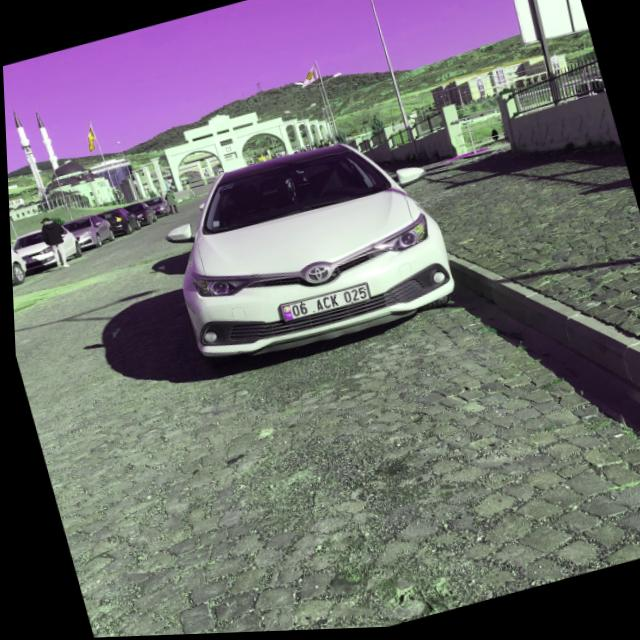license_plate: (278, 286, 369, 323)
